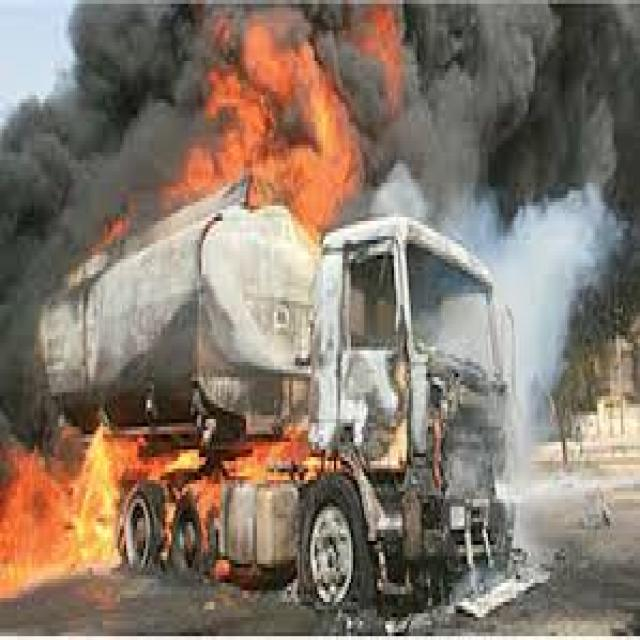fire: (2, 438, 304, 594), (161, 4, 353, 225)
smoke: (426, 187, 621, 583), (2, 4, 161, 438), (355, 4, 640, 221)
